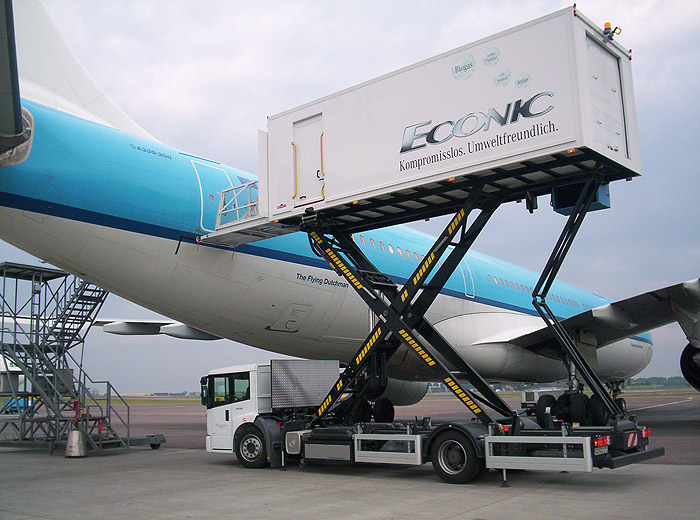Catering truck: (172, 6, 656, 466)
